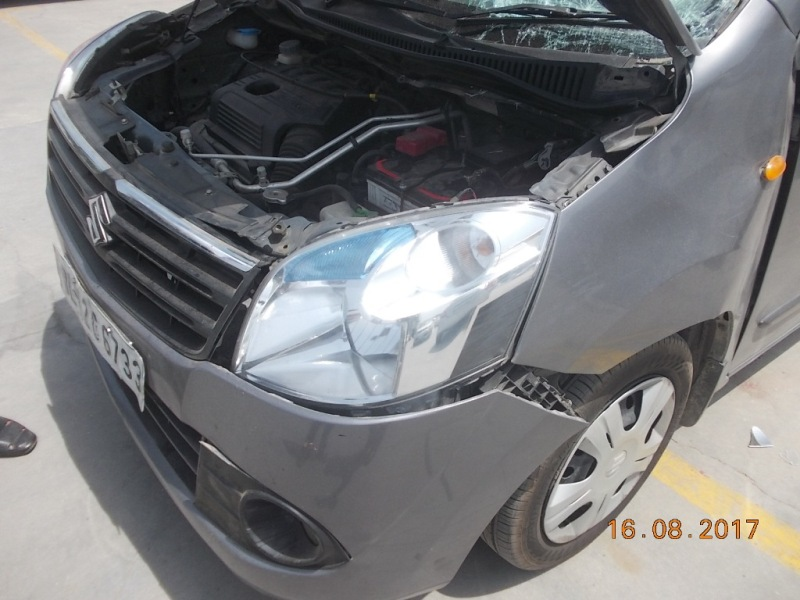Dislocation: (491, 348, 597, 443), (756, 169, 795, 331)
